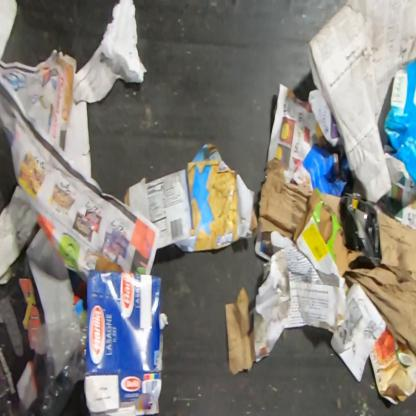cardboard: (0, 183, 76, 415), (83, 253, 169, 416), (292, 187, 364, 278), (123, 167, 199, 253), (382, 55, 416, 188), (369, 325, 415, 407), (338, 192, 383, 268), (235, 172, 260, 240)
soft_plastic: (1, 308, 87, 415)
